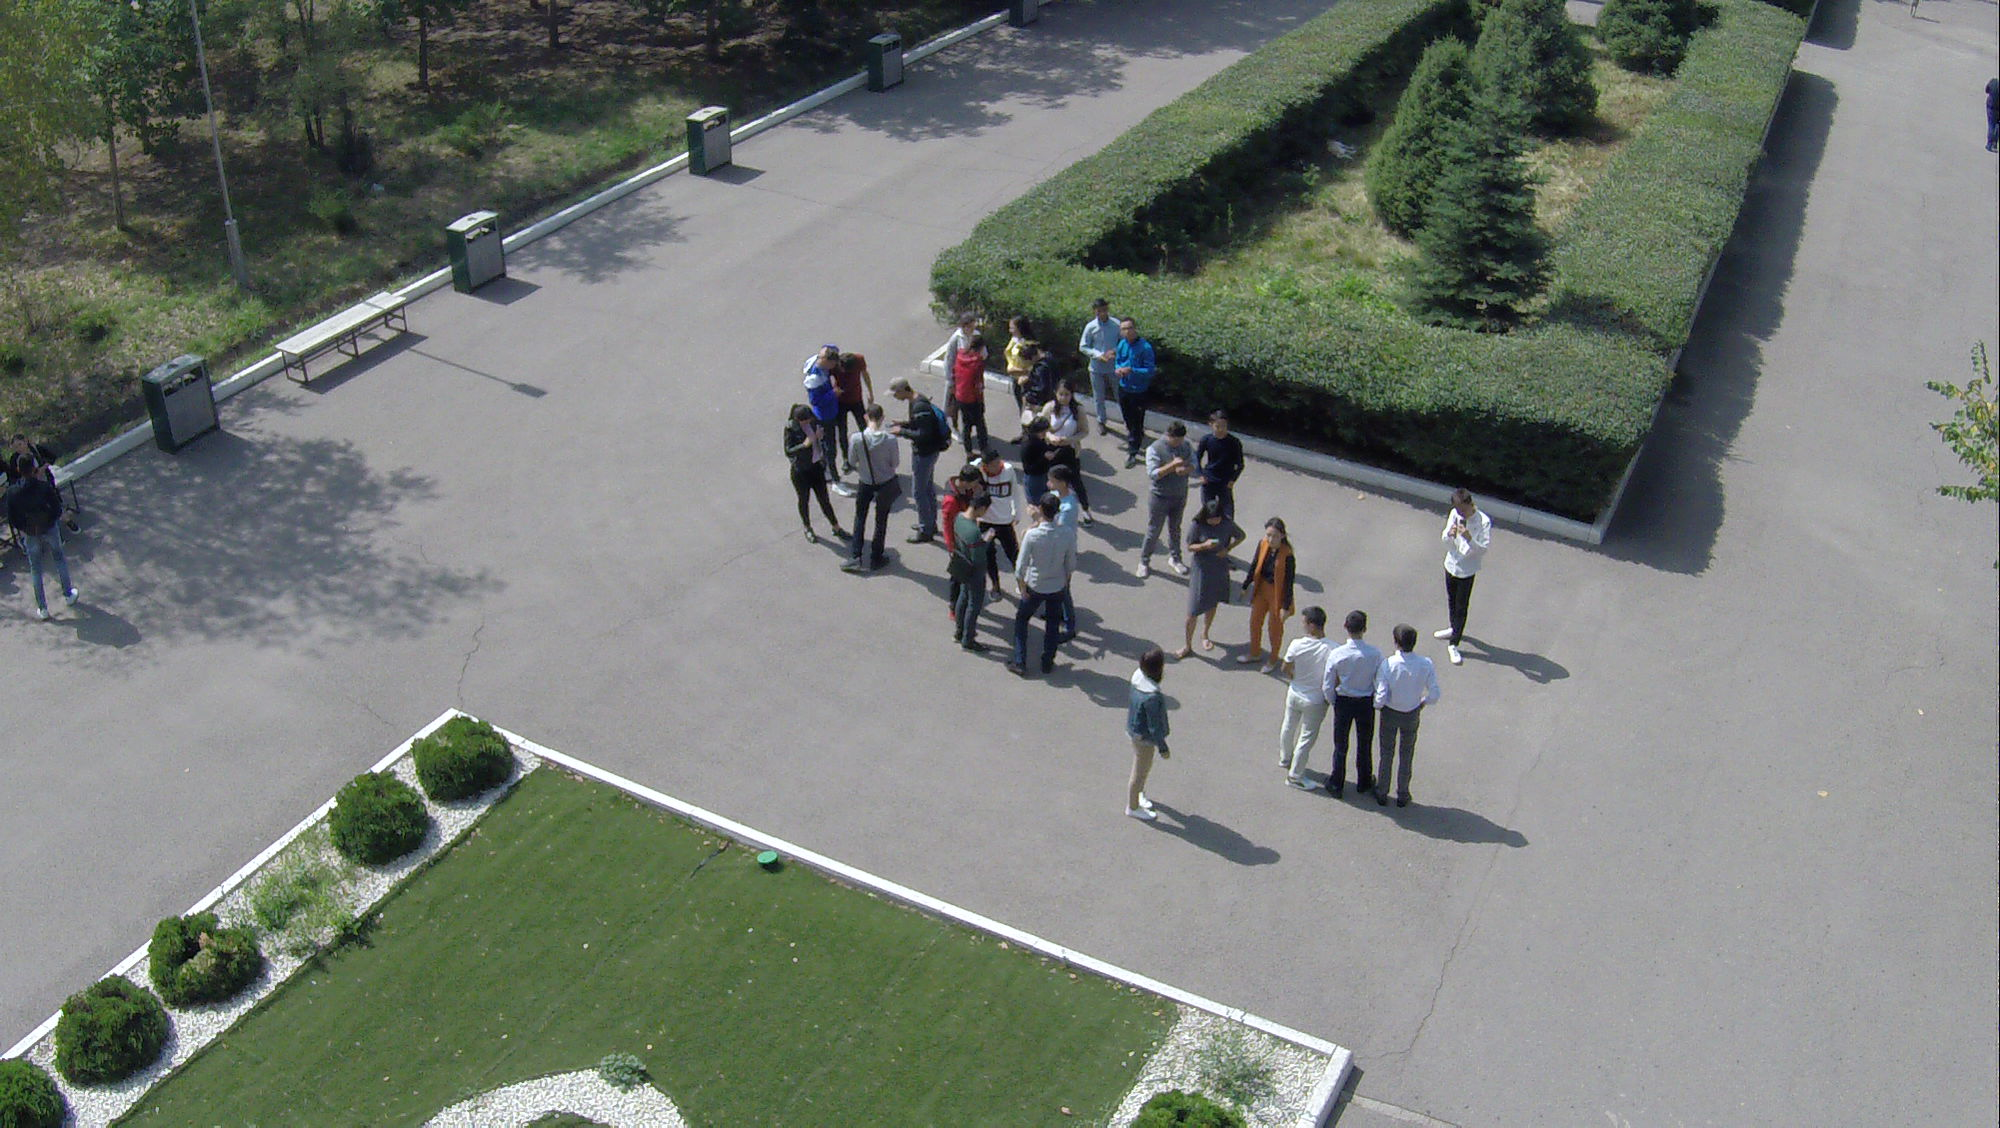person: (1105, 647, 1182, 833), (5, 447, 82, 618), (1280, 605, 1349, 785), (1330, 614, 1395, 795), (764, 408, 845, 551), (1018, 497, 1076, 693), (891, 387, 953, 545), (1241, 518, 1297, 683), (1380, 622, 1428, 805), (995, 305, 1041, 437), (1143, 428, 1182, 585), (1445, 493, 1480, 662), (1191, 512, 1228, 653), (1112, 322, 1149, 458), (1041, 366, 1085, 466), (957, 499, 982, 655), (1205, 410, 1241, 510), (797, 339, 839, 414), (968, 345, 987, 468), (839, 351, 870, 424)
